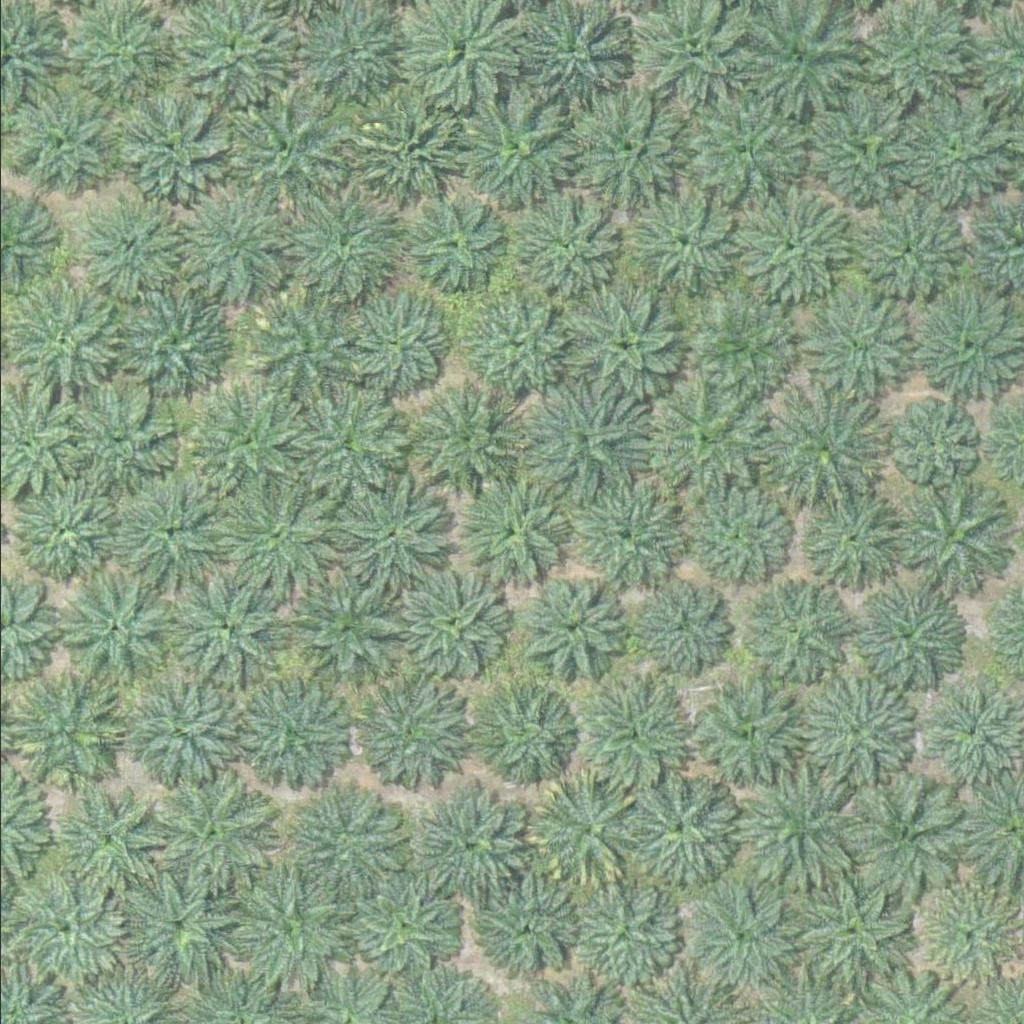Kelapa_Sawit: (782, 865, 908, 990), (610, 763, 736, 888), (731, 757, 857, 882), (835, 781, 961, 906), (683, 672, 809, 797), (513, 374, 639, 499), (759, 389, 885, 514), (550, 285, 676, 410), (338, 867, 464, 992), (561, 85, 687, 210), (679, 85, 805, 210), (795, 92, 921, 217), (879, 92, 1005, 217), (352, 96, 478, 221), (229, 86, 355, 211), (100, 87, 226, 212), (162, 182, 288, 307), (272, 183, 398, 308), (109, 280, 235, 405), (51, 377, 177, 502), (214, 469, 340, 594), (110, 471, 236, 596), (3, 467, 129, 592), (49, 565, 175, 690), (346, 672, 472, 797), (228, 675, 354, 800), (2, 671, 128, 796), (146, 768, 272, 893), (278, 775, 404, 900), (406, 780, 532, 905), (215, 864, 341, 989), (112, 858, 238, 983), (514, 770, 639, 895), (572, 672, 697, 797), (329, 470, 454, 595), (167, 571, 292, 696), (279, 571, 404, 696), (116, 671, 241, 796), (625, 186, 739, 299), (502, 199, 616, 312), (683, 881, 796, 994), (569, 879, 682, 992), (894, 477, 1007, 590), (686, 480, 799, 593), (729, 195, 842, 308), (457, 291, 570, 404), (293, 384, 406, 497), (338, 286, 451, 399), (240, 293, 353, 406), (794, 676, 907, 788), (848, 578, 961, 690), (565, 484, 678, 596), (648, 378, 761, 490), (906, 289, 1019, 401), (794, 289, 907, 401), (455, 94, 568, 206), (414, 384, 527, 496), (452, 480, 565, 592), (480, 874, 581, 974), (480, 684, 581, 784), (520, 579, 621, 679), (627, 571, 728, 671), (744, 581, 845, 681), (799, 487, 900, 587), (875, 392, 976, 492), (693, 293, 794, 393), (855, 212, 956, 312), (400, 194, 501, 294), (199, 392, 300, 492), (397, 574, 498, 674), (53, 791, 154, 891), (68, 204, 168, 304)
